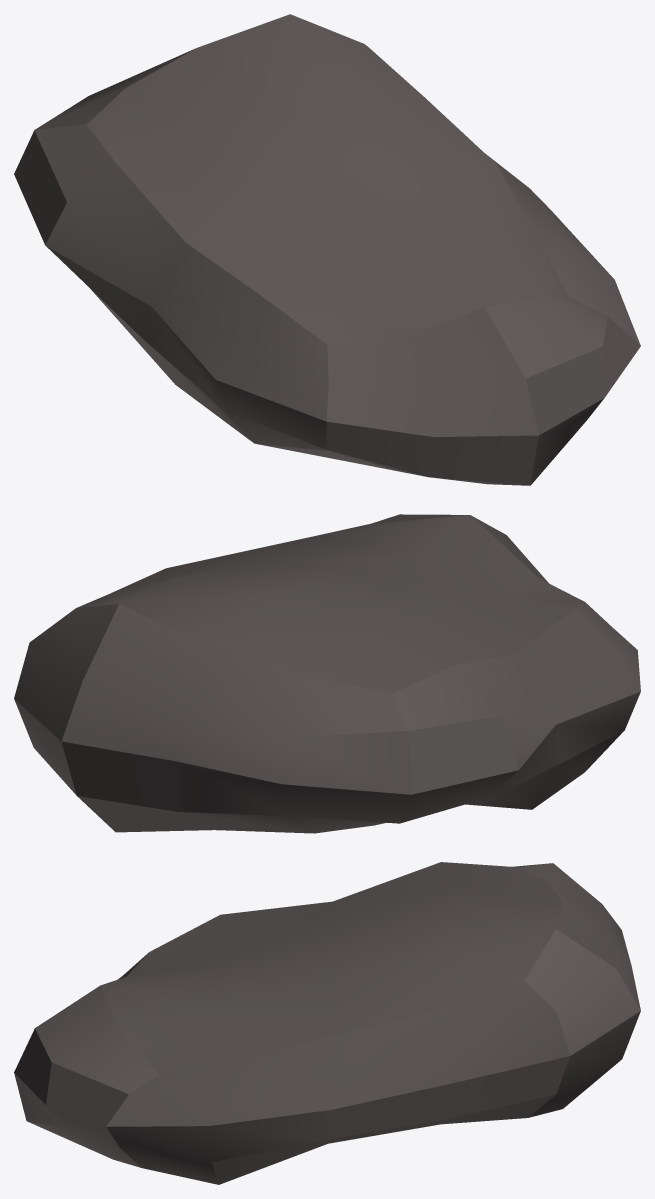
Rendered from PedraGrande3.fbx.
3 views of the same model, one above another, from view 1: azimuth 30°, elevation 25°; view 2: azimuth 150°, elevation 25°; view 3: azimuth 270°, elevation 25° (orthographic). The views are drawn at different scales.
Parts seen in each view (by area): view 1: PedraGrande3; view 2: PedraGrande3; view 3: PedraGrande3.
Boxes of the visible parts, x1=… form: PedraGrande3: x1=14, y1=14, x2=640, y2=485; PedraGrande3: x1=14, y1=514, x2=640, y2=833; PedraGrande3: x1=14, y1=862, x2=640, y2=1184.
Size of the model in its own units: 1.64 by 0.9626 by 2.29.
